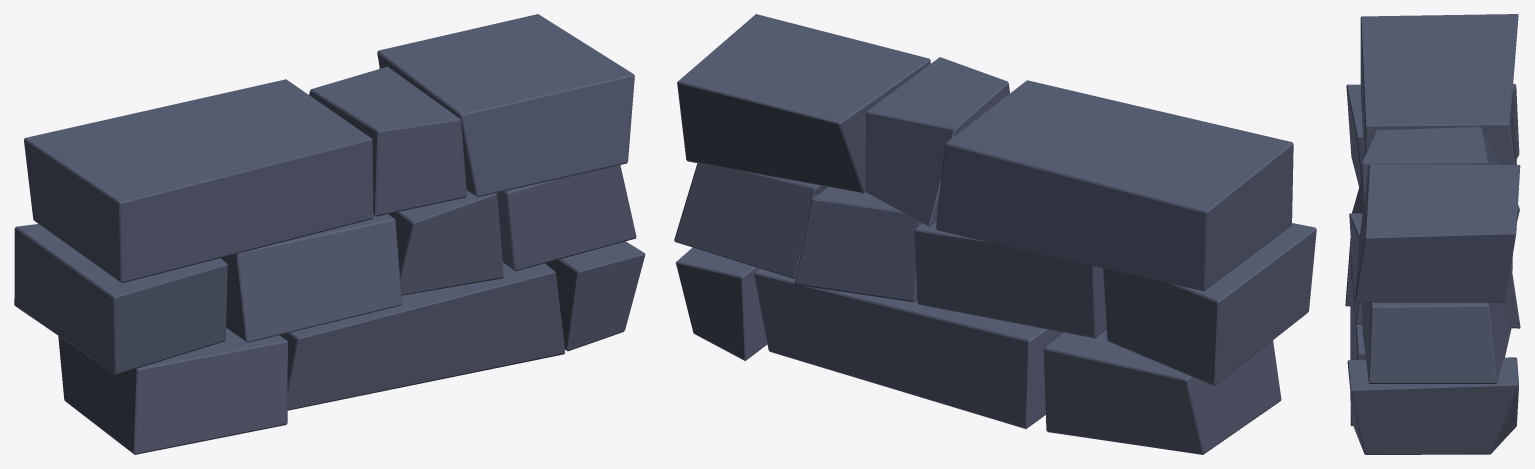
Rendered from stone_fence3.fbx.
The picture shows the model from 3 angles, left to right: view 1: azimuth 30°, elevation 25°; view 2: azimuth 150°, elevation 25°; view 3: azimuth 270°, elevation 25°; orthographic projection. The views are drawn at different scales.
Visible parts, largest first — view 1: Cylinder.000; view 2: Cylinder.000; view 3: Cylinder.000.
Boxes of the visible parts, x1,y1,x2,y2 form: Cylinder.000: [14, 14, 645, 454]; Cylinder.000: [674, 14, 1316, 454]; Cylinder.000: [1345, 14, 1520, 454].
Bounding box in the file's own units: 287 × 130 × 92.56.
